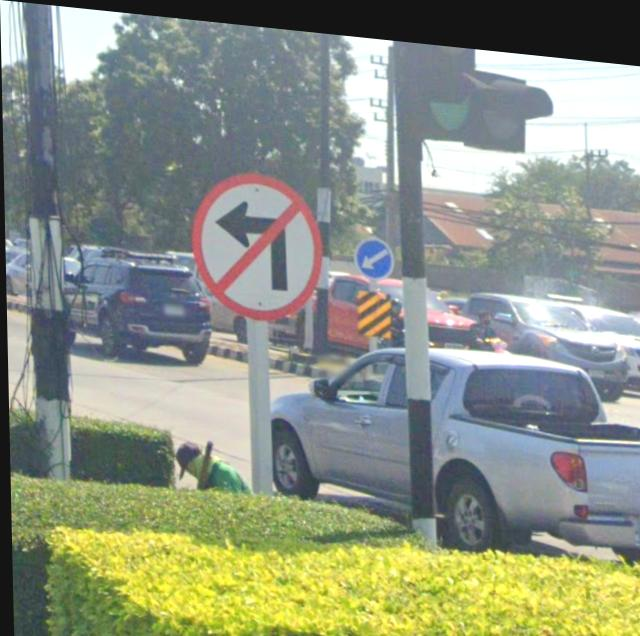not_turn_left: (188, 159, 326, 322)
